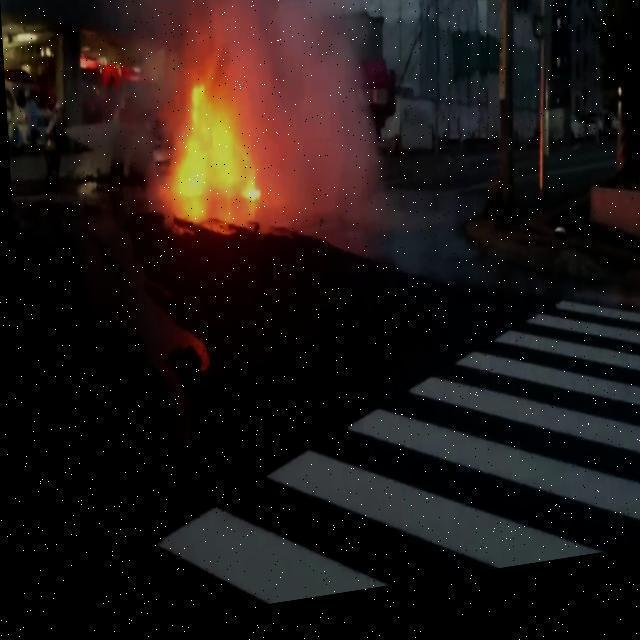Fire: (162, 74, 260, 234)
